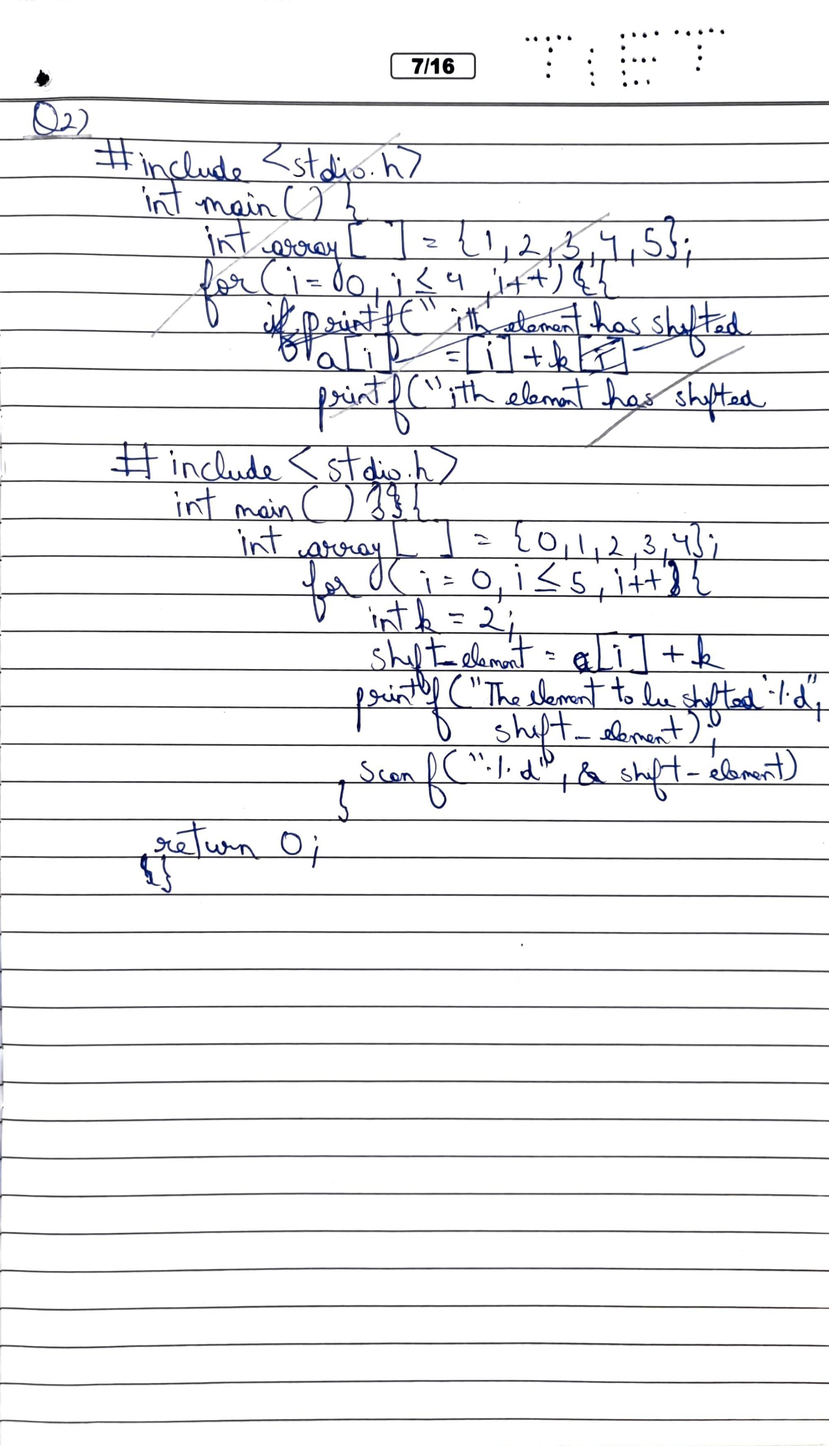cuttings: (92, 132, 775, 455), (364, 482, 386, 523), (139, 851, 162, 887), (385, 480, 405, 520), (570, 650, 596, 674), (667, 559, 684, 595)
